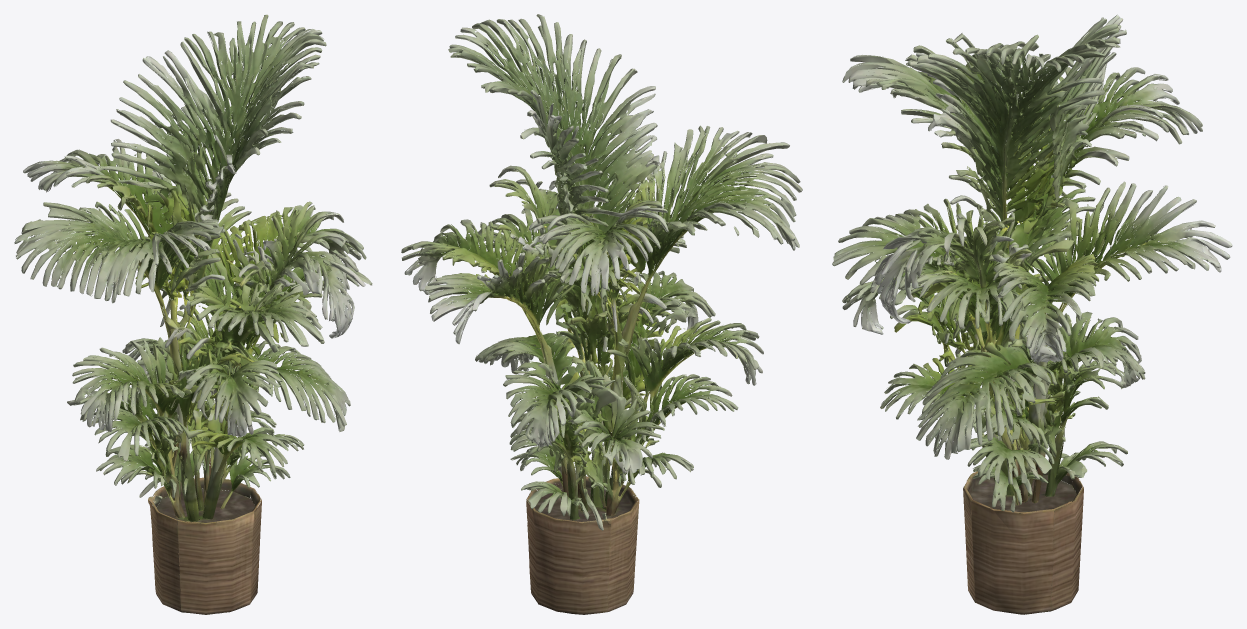
Rendered from areca-palm-rattan-planter-web-blender.glb.
The picture shows the model from 3 angles, left to right: view 1: azimuth 30°, elevation 25°; view 2: azimuth 150°, elevation 25°; view 3: azimuth 270°, elevation 25°; orthographic projection. The views are drawn at different scales.
Visible parts, largest first — view 1: geometry_0.001; view 2: geometry_0.001; view 3: geometry_0.001.
Part boxes in pixels (x1,y1,x2,y2): geometry_0.001: [14, 14, 372, 614]; geometry_0.001: [401, 14, 802, 614]; geometry_0.001: [832, 14, 1232, 614].
Bounding box in the file's own units: 0.7011 × 1 × 0.6103.
Materials: 1 (1 with a texture image).
